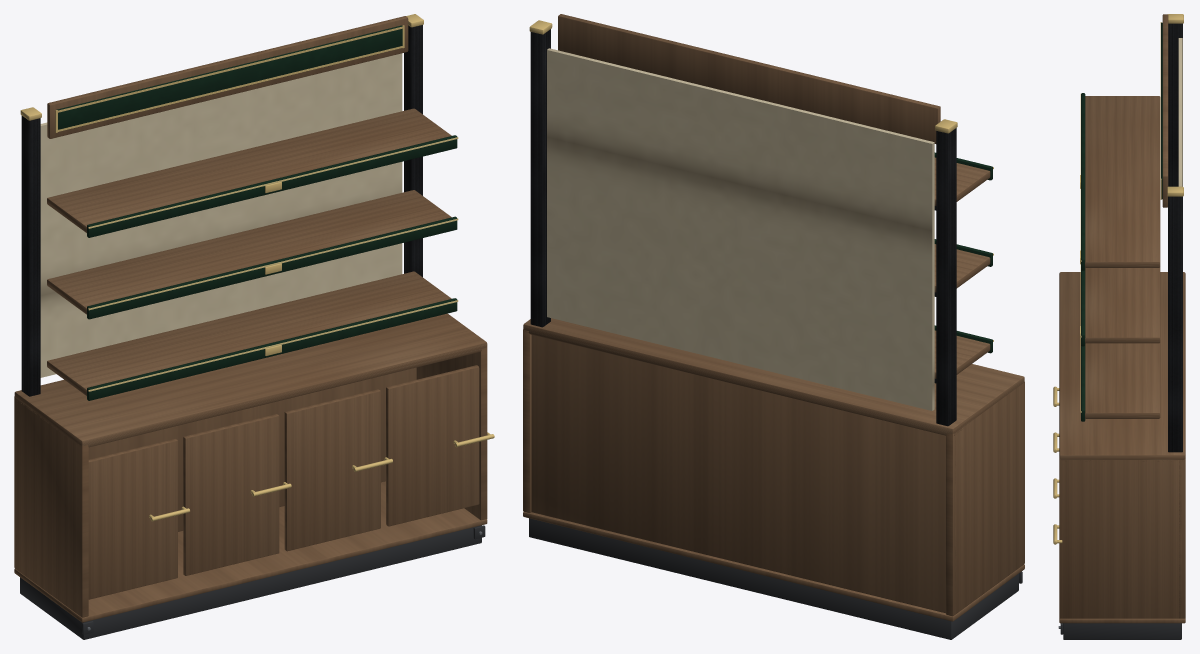
File: wall_shelf.glb
3 views of the same model, side by side, from view 1: azimuth 30°, elevation 25°; view 2: azimuth 150°, elevation 25°; view 3: azimuth 270°, elevation 25° (orthographic). The views are drawn at different scales.
Parts seen in each view (by area): view 1: wall_shelf_body; view 2: wall_shelf_body; view 3: wall_shelf_body.
Part boxes in pixels (x1,y1,x2,y2): wall_shelf_body: [14, 14, 494, 639]; wall_shelf_body: [523, 14, 1024, 639]; wall_shelf_body: [1053, 14, 1185, 639].
Size of what is drawn, in the model's own units: 1.74 by 1.99 by 0.524.
Materials: 8 (4 with a texture image).
